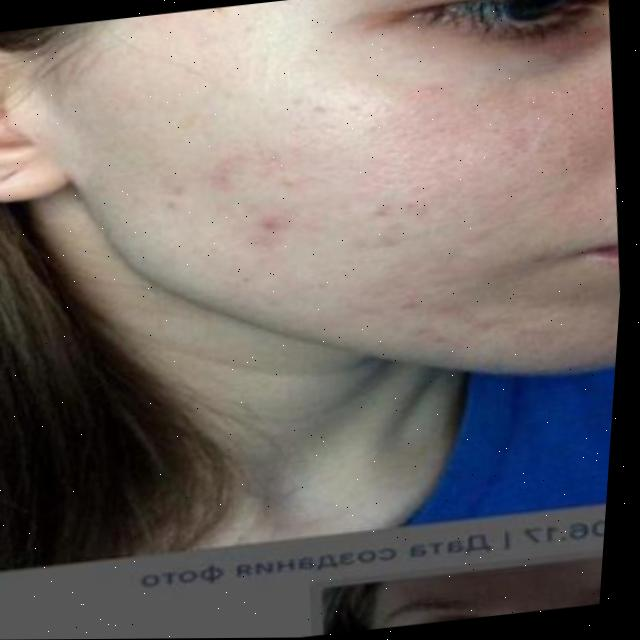Acne: (162, 89, 520, 340)
